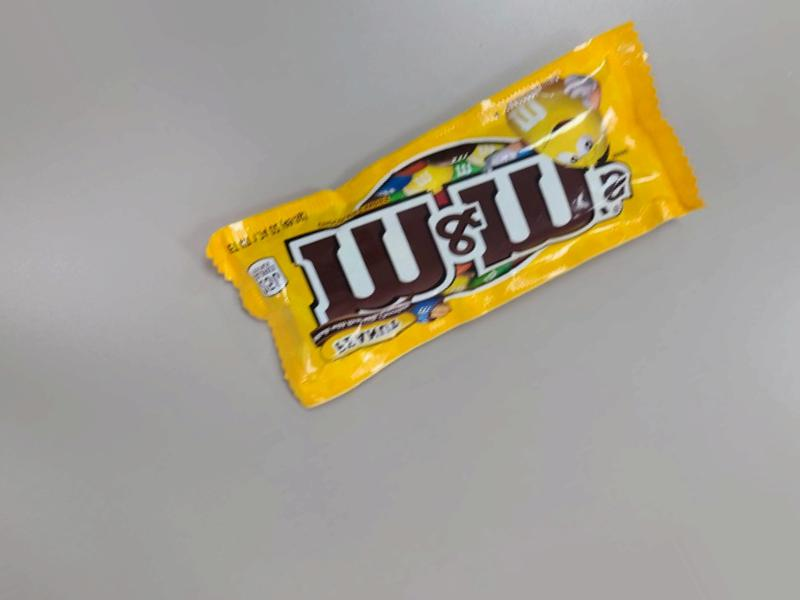m&m: (278, 164, 794, 423)
